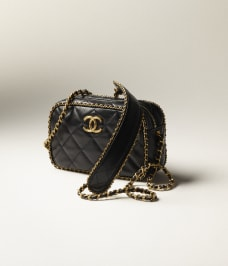channel: (44, 85, 174, 185), (132, 143, 166, 200), (78, 113, 107, 135)
